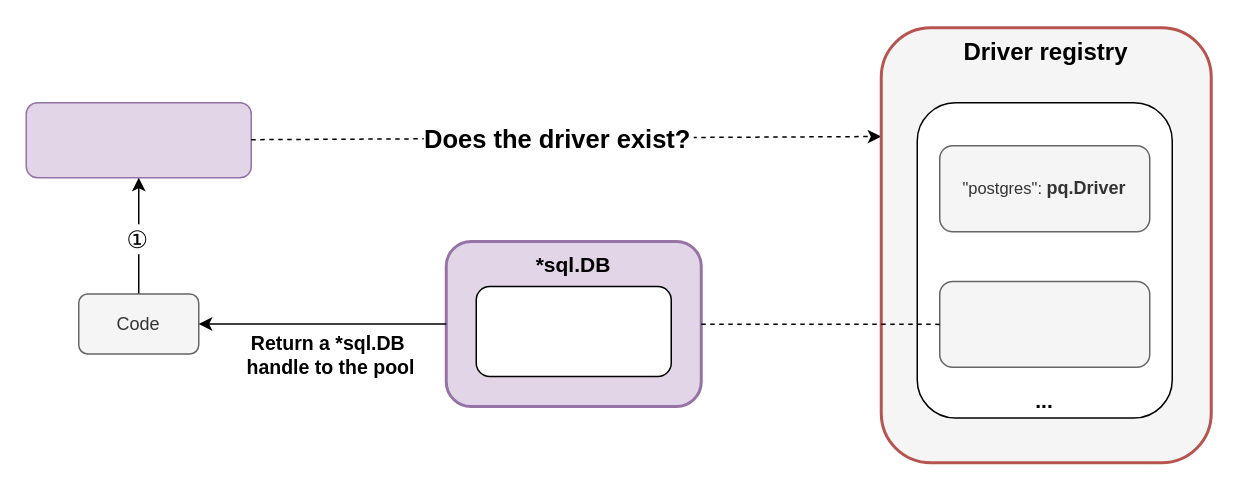
Image size: 1239x489. Some labels were removed from this diagram. The shapes that lost their labels are listed below. From the top down, each one's box as (x1, y1, x2, y2) in pixels, then its label:
(25, 101, 251, 178): sql.Open("sqlite", "...")
(475, 285, 671, 376): Connection pool (initially empty)
(938, 280, 1150, 367): "sqlite": sqlite.Driver
